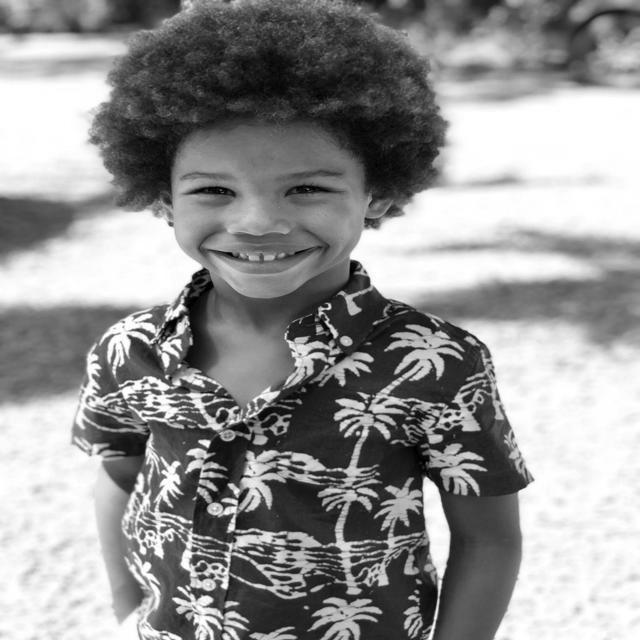Happiness: (166, 116, 370, 302)
